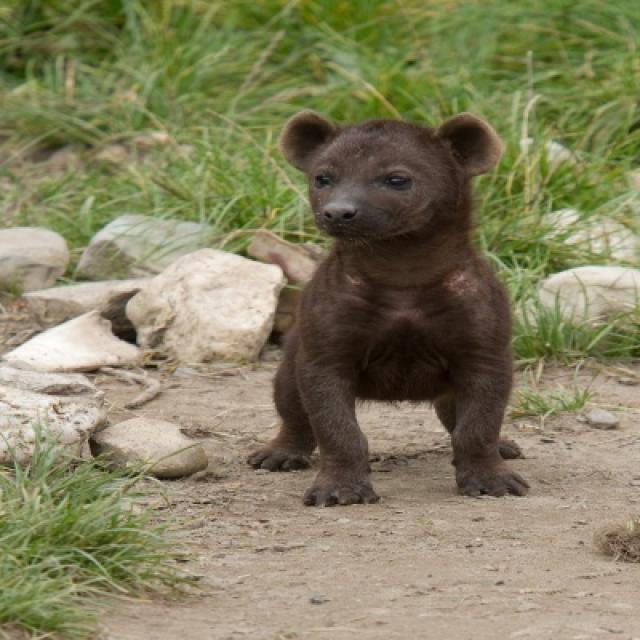hyena: (250, 112, 530, 509)
